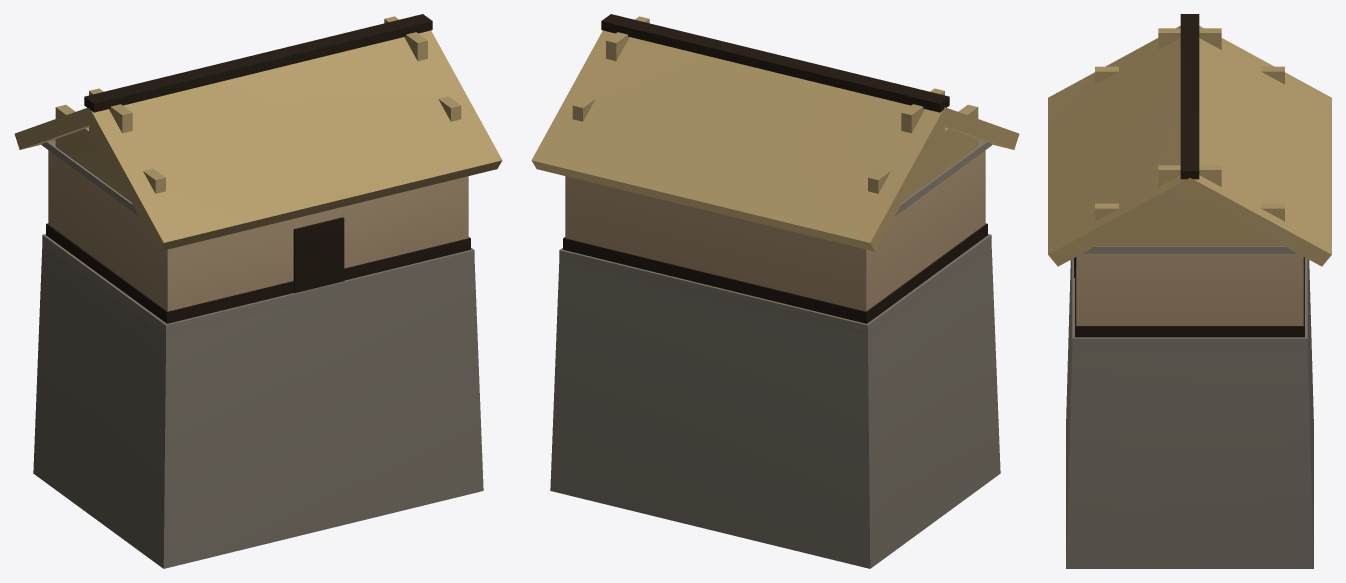
File: killke_house_lod1.glb
3 renders of one model, left to right at view 1: azimuth 30°, elevation 25°; view 2: azimuth 150°, elevation 25°; view 3: azimuth 270°, elevation 25°, orthographic. The views are drawn at different scales.
Parts seen in each view (by area): view 1: GEO-Arch_killke_house_LOD1; view 2: GEO-Arch_killke_house_LOD1; view 3: GEO-Arch_killke_house_LOD1.
Boxes of the visible parts, left/top/right/bottom form: GEO-Arch_killke_house_LOD1: left=14, top=14, right=502, bottom=568; GEO-Arch_killke_house_LOD1: left=531, top=14, right=1019, bottom=568; GEO-Arch_killke_house_LOD1: left=1048, top=14, right=1331, bottom=568.
Size of the model in its own units: 7.2 by 8.6 by 5.5.
